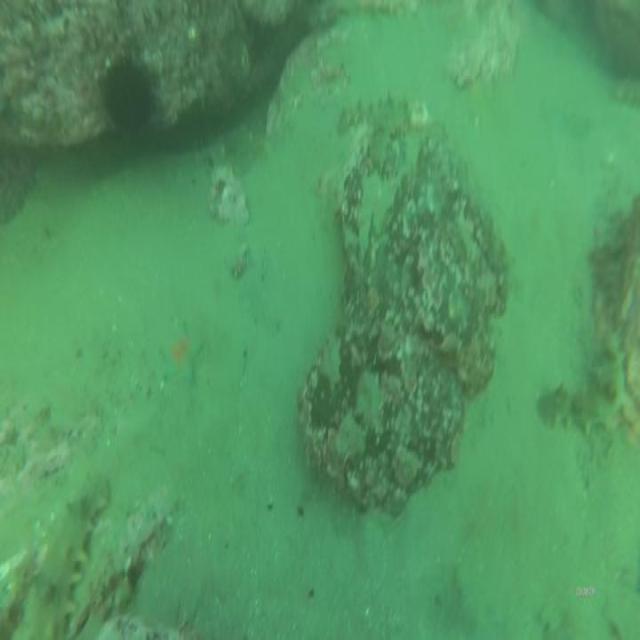echinus: (99, 47, 160, 139)
holothurian: (21, 468, 112, 640), (540, 326, 628, 440), (370, 95, 410, 177), (337, 96, 398, 134)
starfish: (157, 316, 207, 392)
